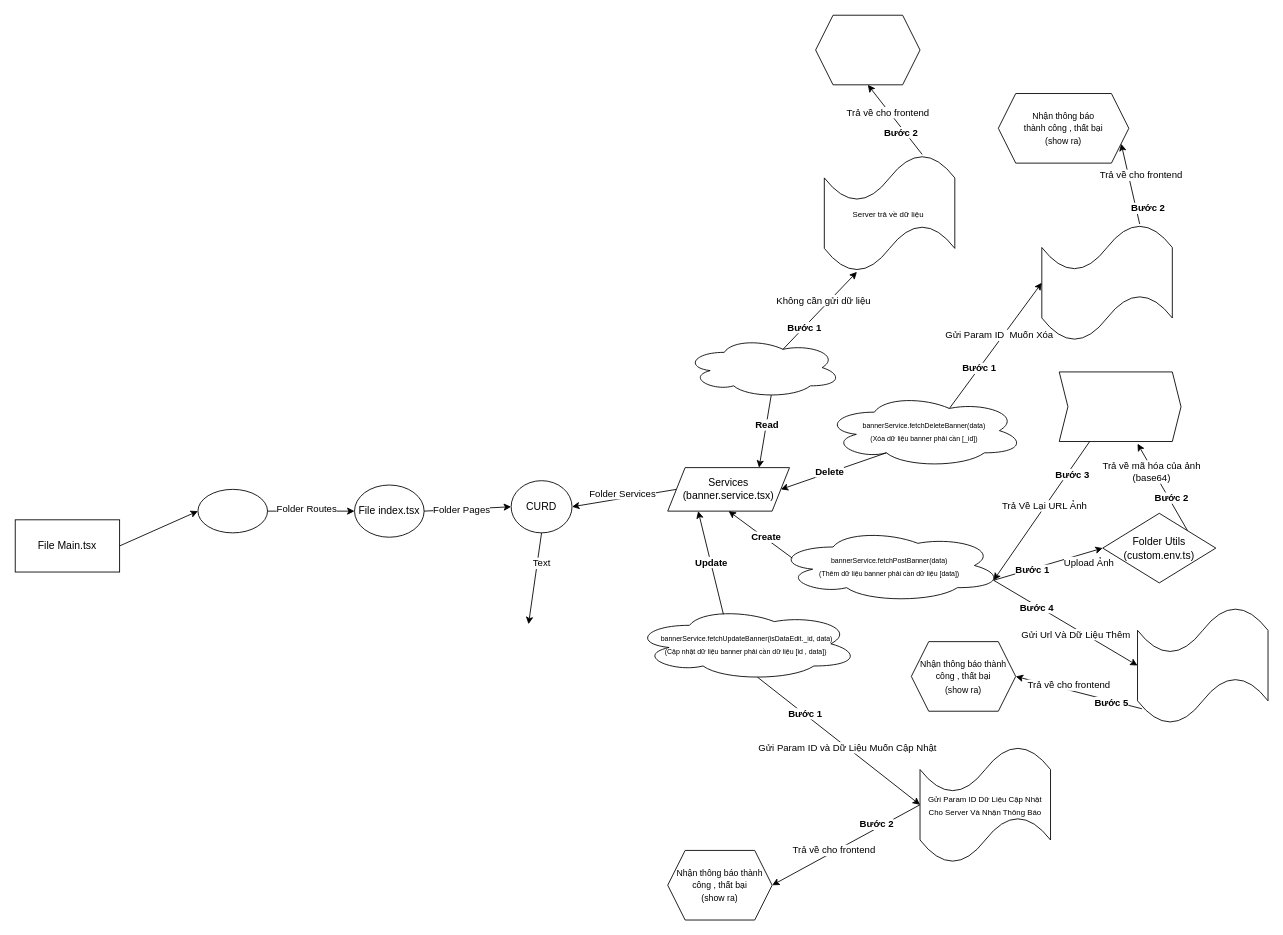
Some shapes in this 1283 by 935 pixel diagram are drawn without their labels. Here are the shapes that lost their labels. From the top down, the box of each, then its label:
(815, 14, 920, 85): Nhận dữ liệu và thông báo thành công , thất bại (show ra dữ liệu)
(1041, 223, 1172, 341): Gửi Param ID Cho Server Và Nhận Thông Báo
(684, 336, 842, 398): bannerService.fetchAllBanners() (Lấy dữ tất cả dữ liệu banner)
(1058, 371, 1181, 442): Gửi Mã Hóa Ảnh Cho Server Và Server Trả Về Url
(197, 489, 268, 533): File App.tsx
(1137, 606, 1268, 724): Gửi Dữ Liệu Thêm Cho Server Và Nhân Thông Báo
